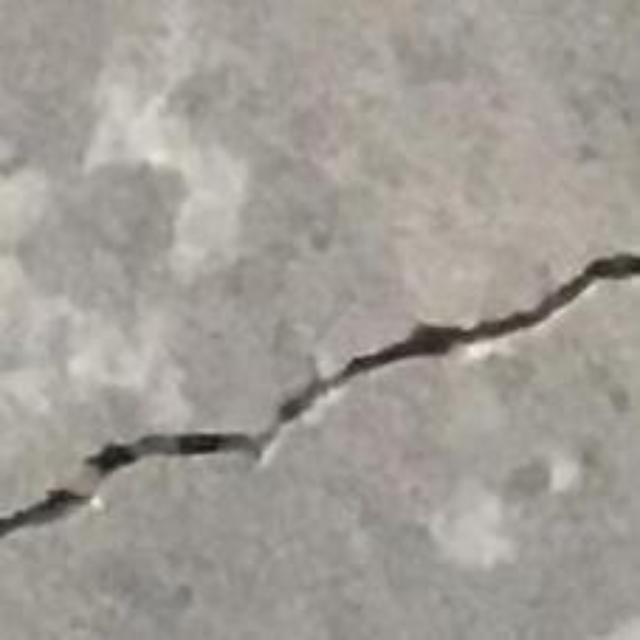crack: (0, 251, 639, 538)
peeling plaster: (0, 172, 180, 417)
